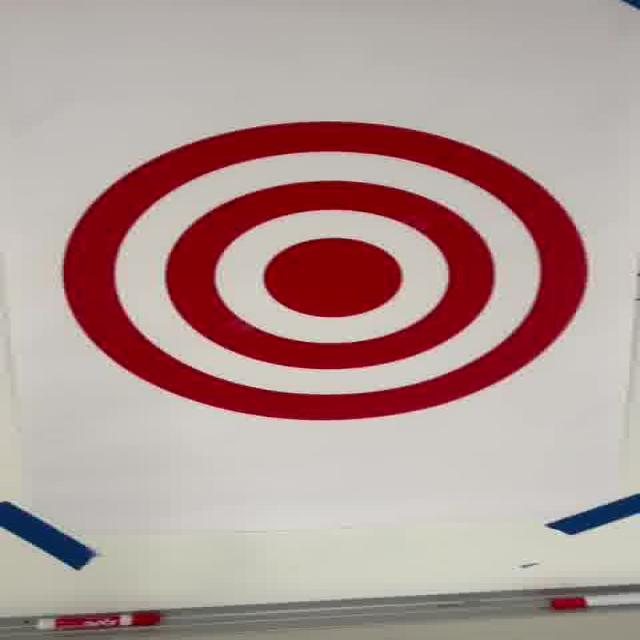target_red: (59, 121, 588, 422)
